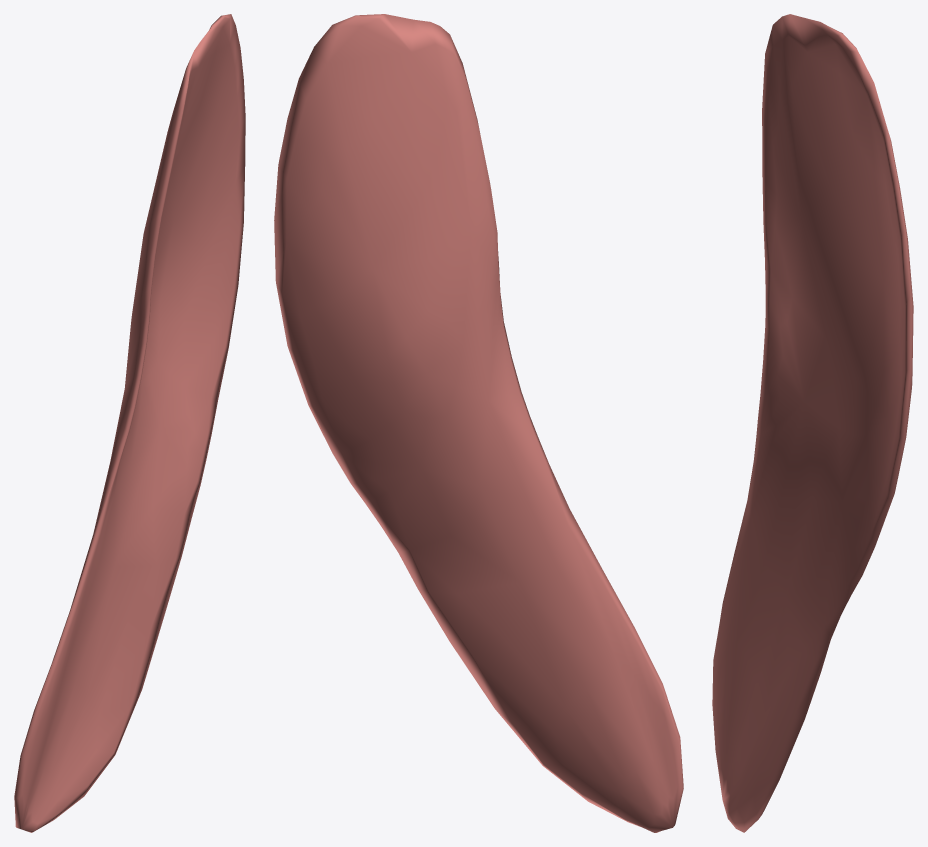
3 views of the same model, side by side, from view 1: azimuth 30°, elevation 25°; view 2: azimuth 150°, elevation 25°; view 3: azimuth 270°, elevation 25° (orthographic). The views are drawn at different scales.
Parts seen in each view (by area): view 1: ZA_7cd3ff6fe71f4c32; view 2: ZA_7cd3ff6fe71f4c32; view 3: ZA_7cd3ff6fe71f4c32.
Part boxes in pixels (x1,y1,x2,y2): ZA_7cd3ff6fe71f4c32: (14, 14, 245, 832); ZA_7cd3ff6fe71f4c32: (274, 14, 683, 832); ZA_7cd3ff6fe71f4c32: (712, 14, 913, 832).
Size of the model in its own units: 0.0191 by 0.0439 by 0.00857.
